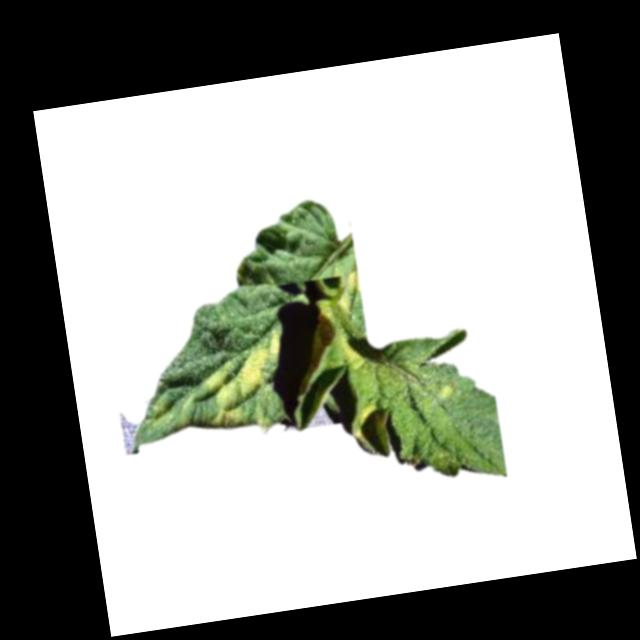Leaf_Mold: (195, 321, 293, 434), (288, 269, 370, 377), (350, 399, 381, 428)
